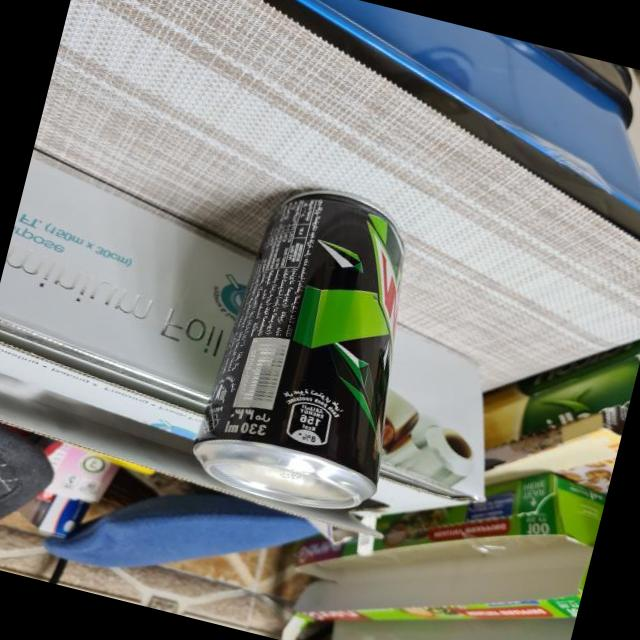Kaleng: (182, 172, 444, 526)
